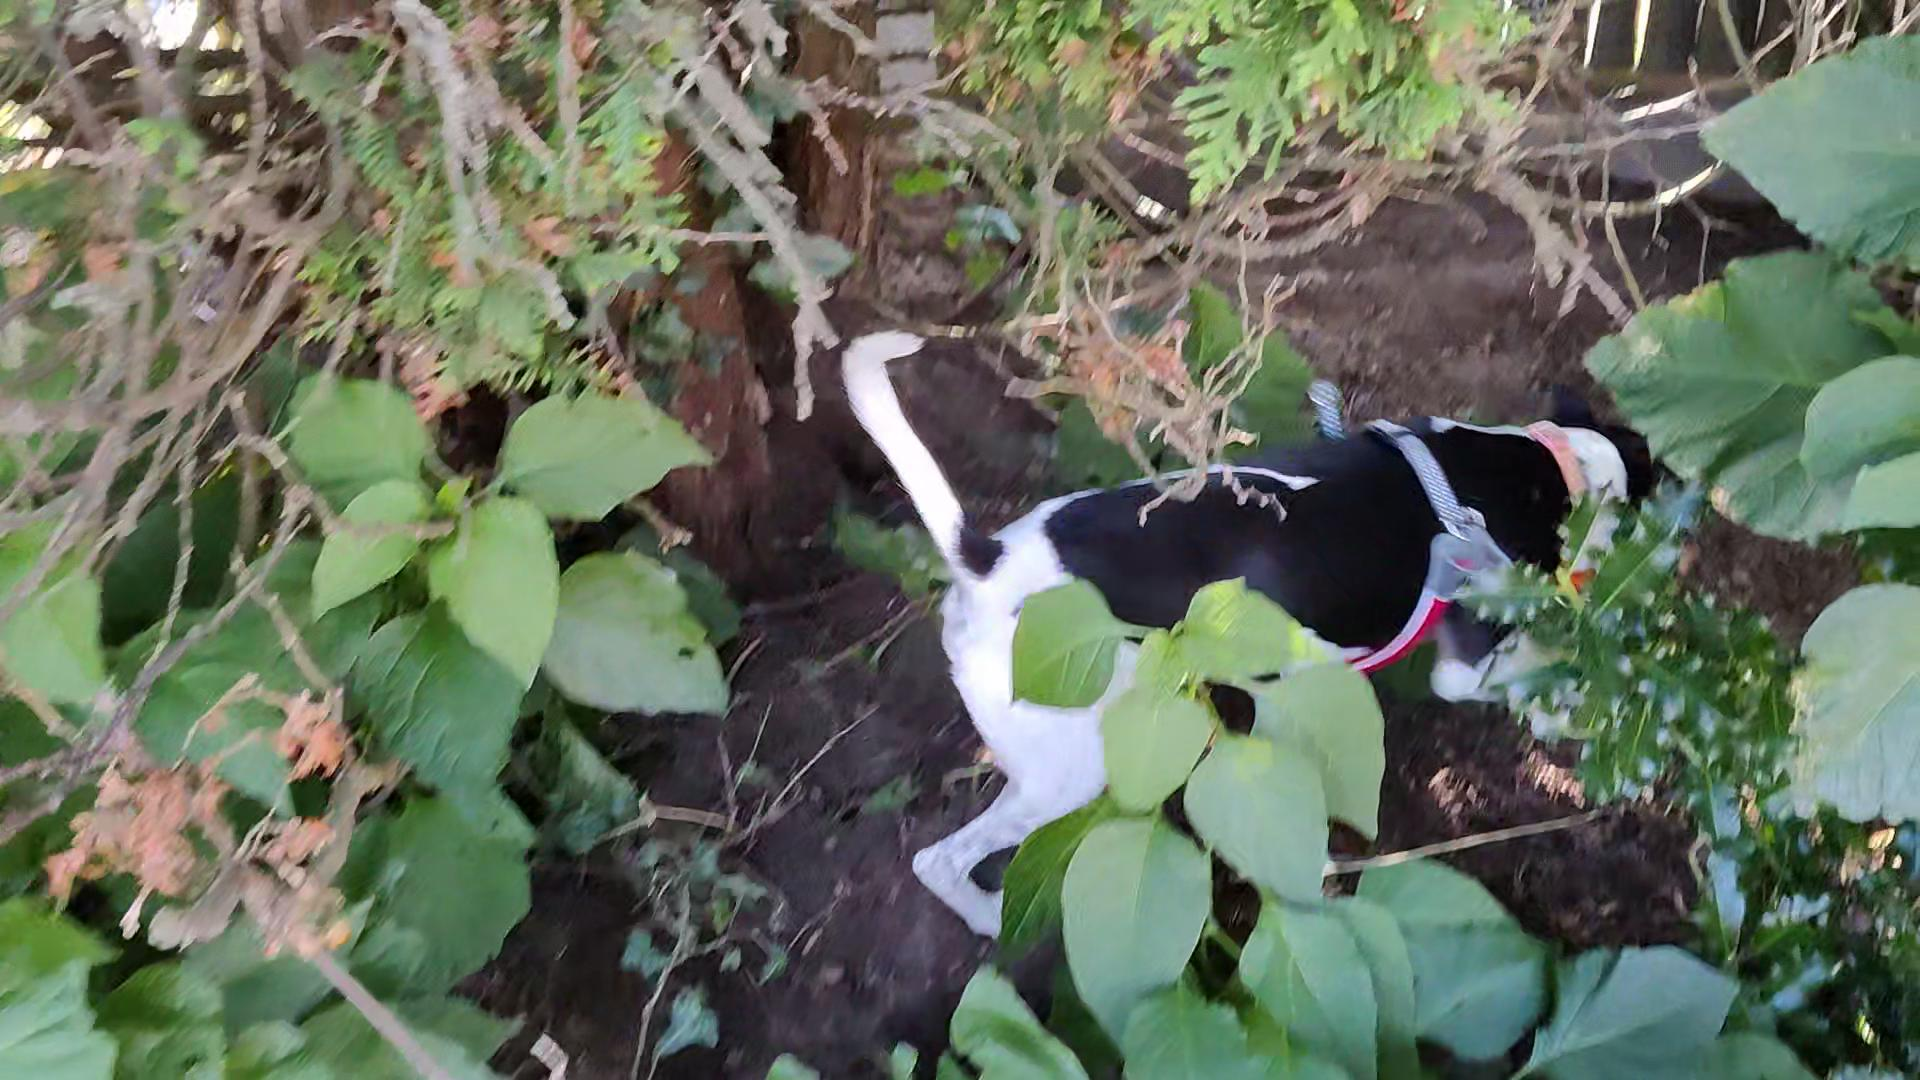Dog: (832, 290, 1697, 939)
